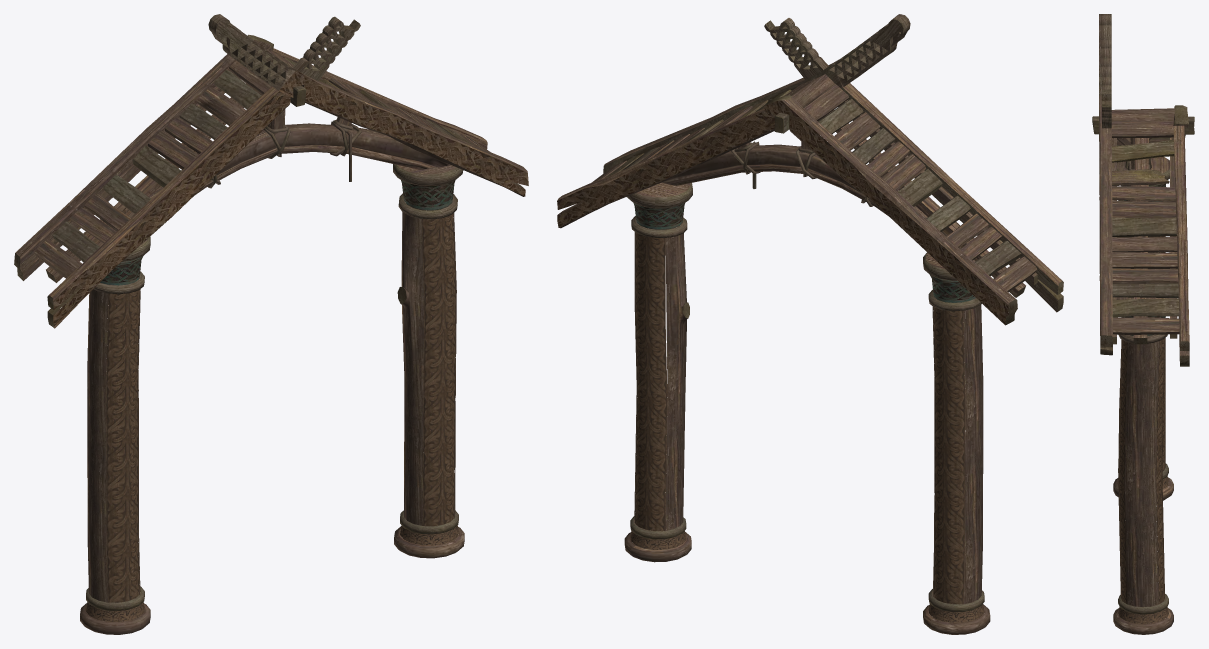
The model's file is VIK_PRO_Gate_Entrance_02A_LOD0-transformed.glb.
3 views of the same model, side by side, from view 1: azimuth 30°, elevation 25°; view 2: azimuth 150°, elevation 25°; view 3: azimuth 270°, elevation 25° (orthographic). The views are drawn at different scales.
Visible parts, largest first — view 1: default; view 2: default; view 3: default.
Boxes of the visible parts, bbox=[...] form: default: bbox=[14, 14, 528, 634]; default: bbox=[557, 14, 1063, 634]; default: bbox=[1092, 14, 1194, 634].
Bounding box in the file's own units: 4.96 × 5.91 × 1.07.
Materials: 4 (4 with a texture image).
